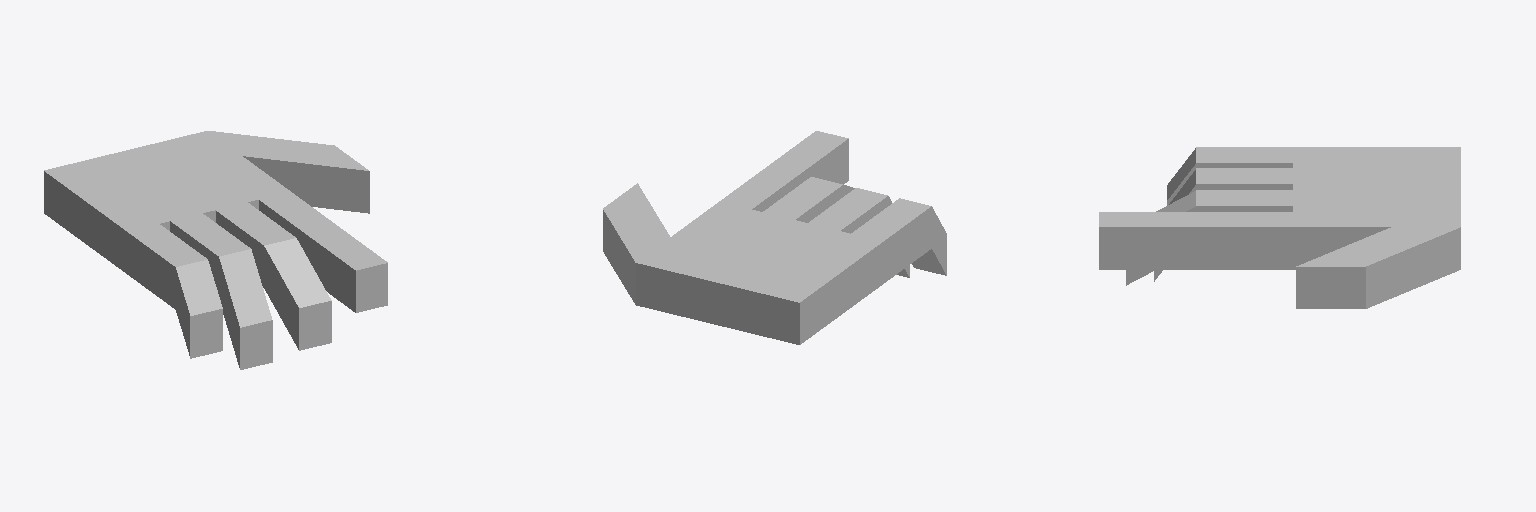
File: Hand.obj
3 renders of one model, left to right at view 1: azimuth 30°, elevation 25°; view 2: azimuth 150°, elevation 25°; view 3: azimuth 270°, elevation 25°, orthographic.
Parts seen in each view (by area): view 1: Cube_Cube.002; view 2: Cube_Cube.002; view 3: Cube_Cube.002.
Boxes of the visible parts, x1=… form: Cube_Cube.002: x1=44, y1=131, x2=387, y2=369; Cube_Cube.002: x1=603, y1=131, x2=946, y2=344; Cube_Cube.002: x1=1099, y1=147, x2=1460, y2=308.
Size of the model in its own units: 2.82 by 1.08 by 3.62.